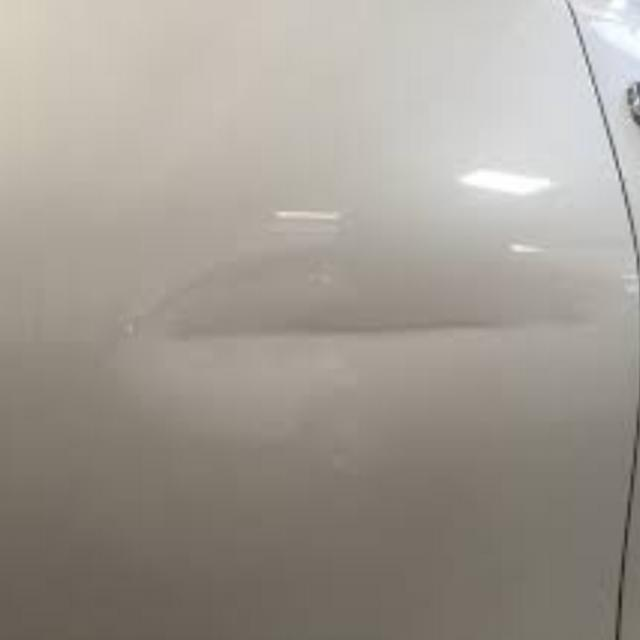dents: (121, 255, 554, 437)
